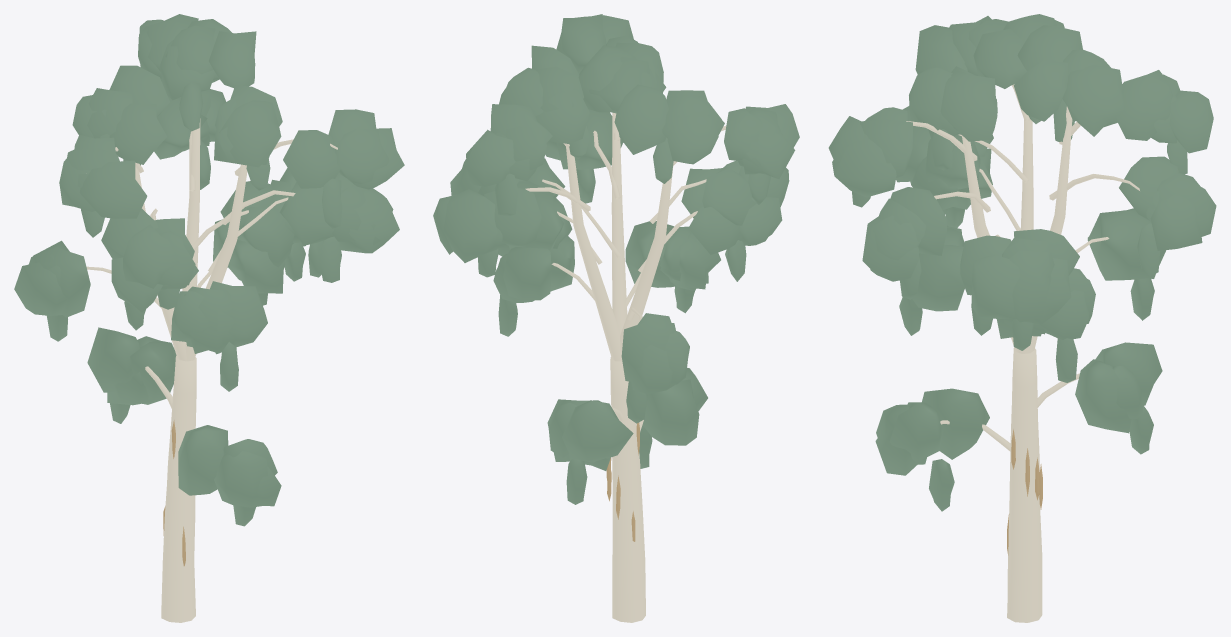
The model's file is Blender_Eucalyptus_1.glb.
3 views of the same model, side by side, from view 1: azimuth 30°, elevation 25°; view 2: azimuth 150°, elevation 25°; view 3: azimuth 270°, elevation 25° (orthographic). The views are drawn at different scales.
Visible parts, largest first — view 1: Blender_Eucalyptus_1; view 2: Blender_Eucalyptus_1; view 3: Blender_Eucalyptus_1.
Boxes of the visible parts, x1,y1,x2,y2 form: Blender_Eucalyptus_1: [14, 14, 404, 622]; Blender_Eucalyptus_1: [433, 14, 799, 622]; Blender_Eucalyptus_1: [828, 14, 1216, 622].
Size of the model in its own units: 21.25 by 35.64 by 21.27.
